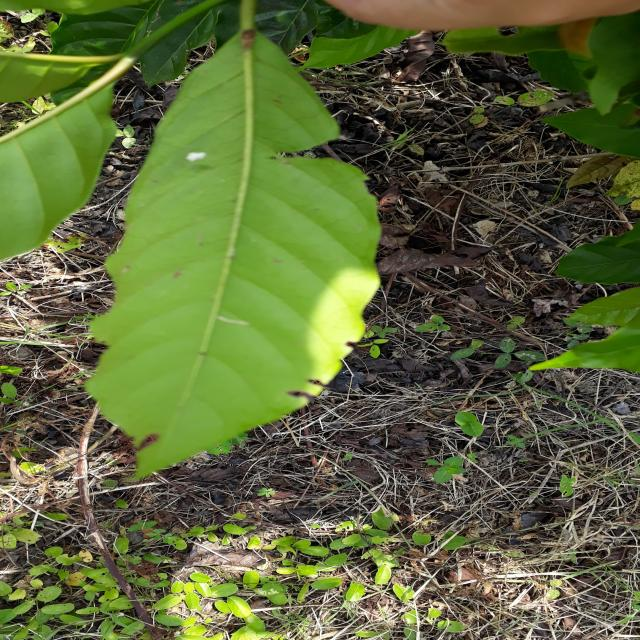Enfermedad-Roya: (85, 37, 381, 482)
